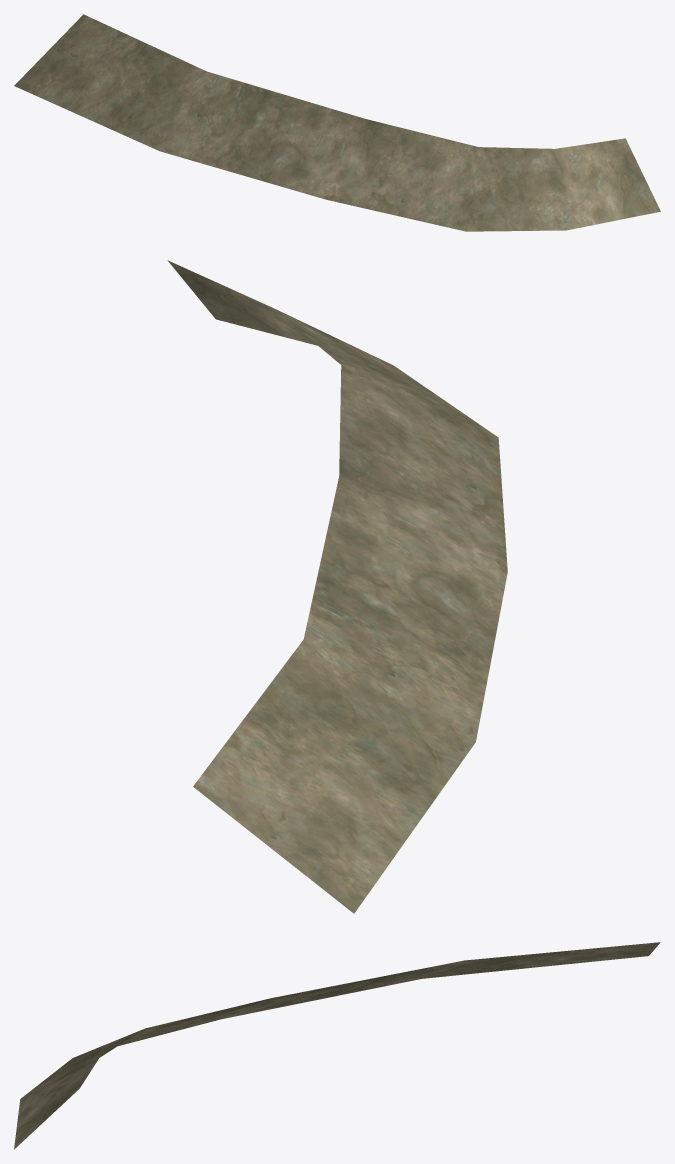
The model's file is OVERHILL_A_01_OBJECT183.fbx.
The picture shows the model from 3 angles, top to bottom: view 1: azimuth 30°, elevation 25°; view 2: azimuth 150°, elevation 25°; view 3: azimuth 270°, elevation 25°; orthographic projection. The views are drawn at different scales.
Parts seen in each view (by area): view 1: OVERHILL_A_01_OBJECT183; view 2: OVERHILL_A_01_OBJECT183; view 3: OVERHILL_A_01_OBJECT183.
Part boxes in pixels (x1,y1,x2,y2): OVERHILL_A_01_OBJECT183: (14, 14, 660, 231); OVERHILL_A_01_OBJECT183: (167, 260, 507, 913); OVERHILL_A_01_OBJECT183: (14, 942, 660, 1149).
Size of the model in its own units: 153879 by 21701 by 219145.
Materials: 1 (1 with a texture image).
